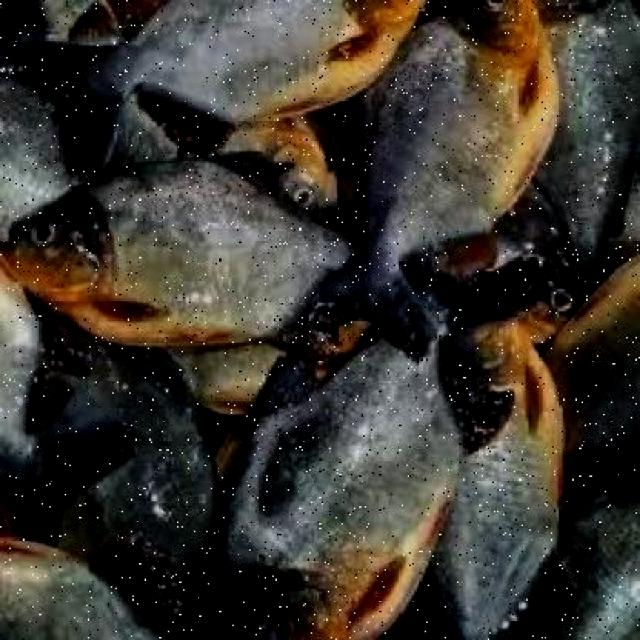ikan-pacu: (223, 342, 463, 640), (16, 154, 338, 343), (346, 0, 546, 302)
